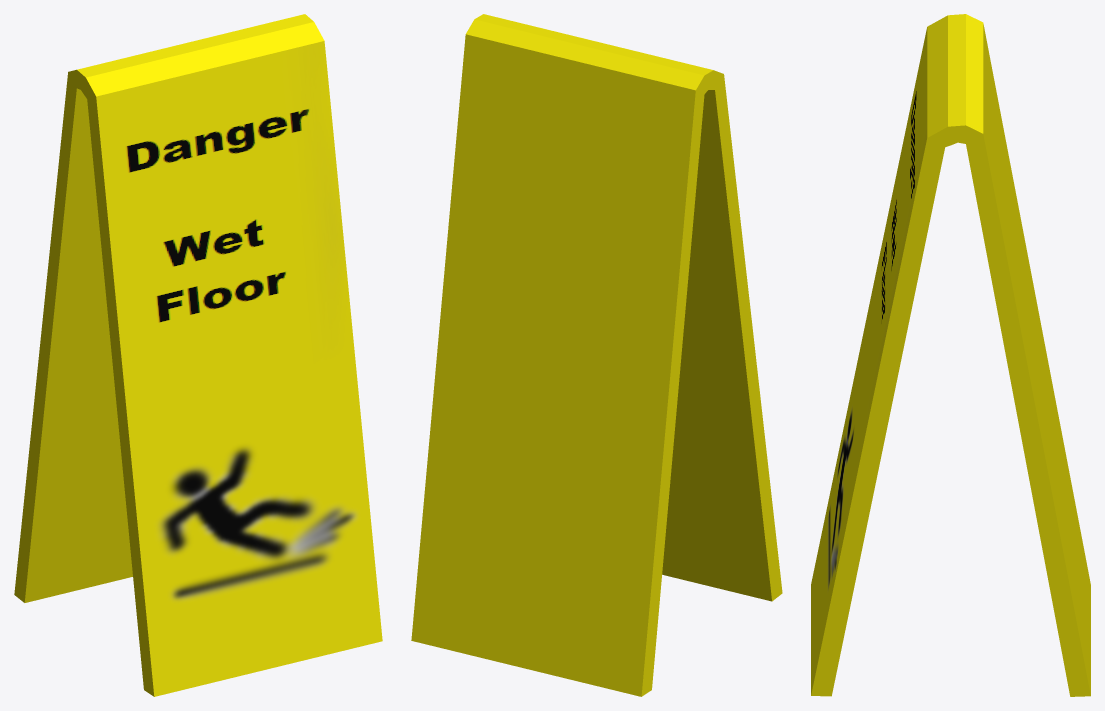
Rendered from WetFloor.glb.
3 renders of one model, left to right at view 1: azimuth 30°, elevation 25°; view 2: azimuth 150°, elevation 25°; view 3: azimuth 270°, elevation 25°, orthographic.
Parts seen in each view (by area): view 1: Cube; view 2: Cube; view 3: Cube.
Part boxes in pixels (x1,y1,x2,y2): Cube: [14, 14, 382, 696]; Cube: [411, 14, 782, 696]; Cube: [811, 14, 1090, 696].
Size of the model in its own units: 0.4666 by 1.12 by 0.4953.
2 materials, 1 textured.
